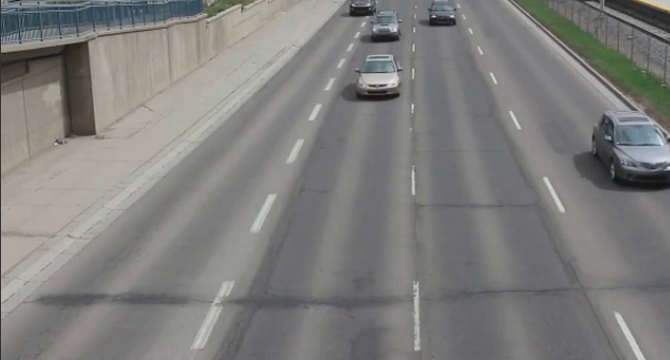car: (590, 108, 670, 189), (353, 51, 404, 100), (371, 10, 408, 37), (430, 1, 463, 25)
